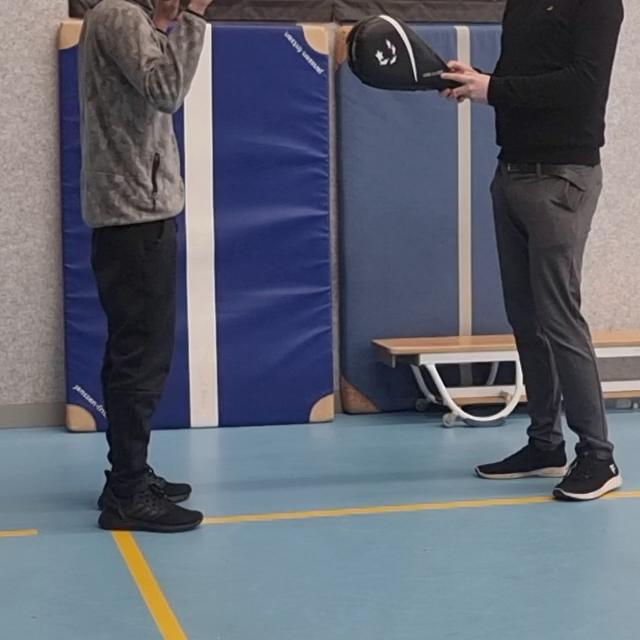paddle: (348, 15, 464, 91)
